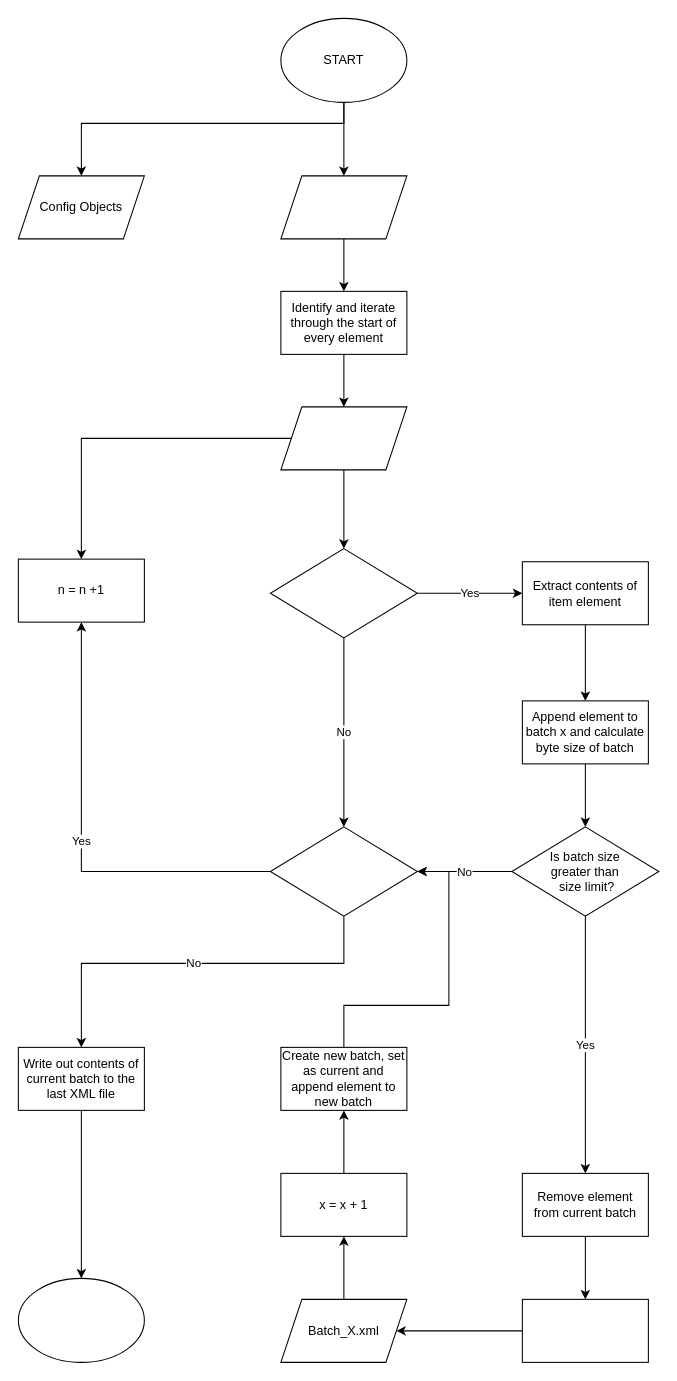
This 677x1381 diagram has some shape labels left out. The box of each missing label's shape, as (x1, y1, x2, y2) in pixels:
Are there anymore elements to iterate through?: (269, 826, 417, 916)
Element n Batch x: (280, 406, 407, 470)
END: (17, 1277, 144, 1362)
Is element tag 'item'?: (269, 548, 417, 638)
Write out contents of current batch to new XML file: (521, 1298, 648, 1362)
XML File: (280, 175, 407, 239)
